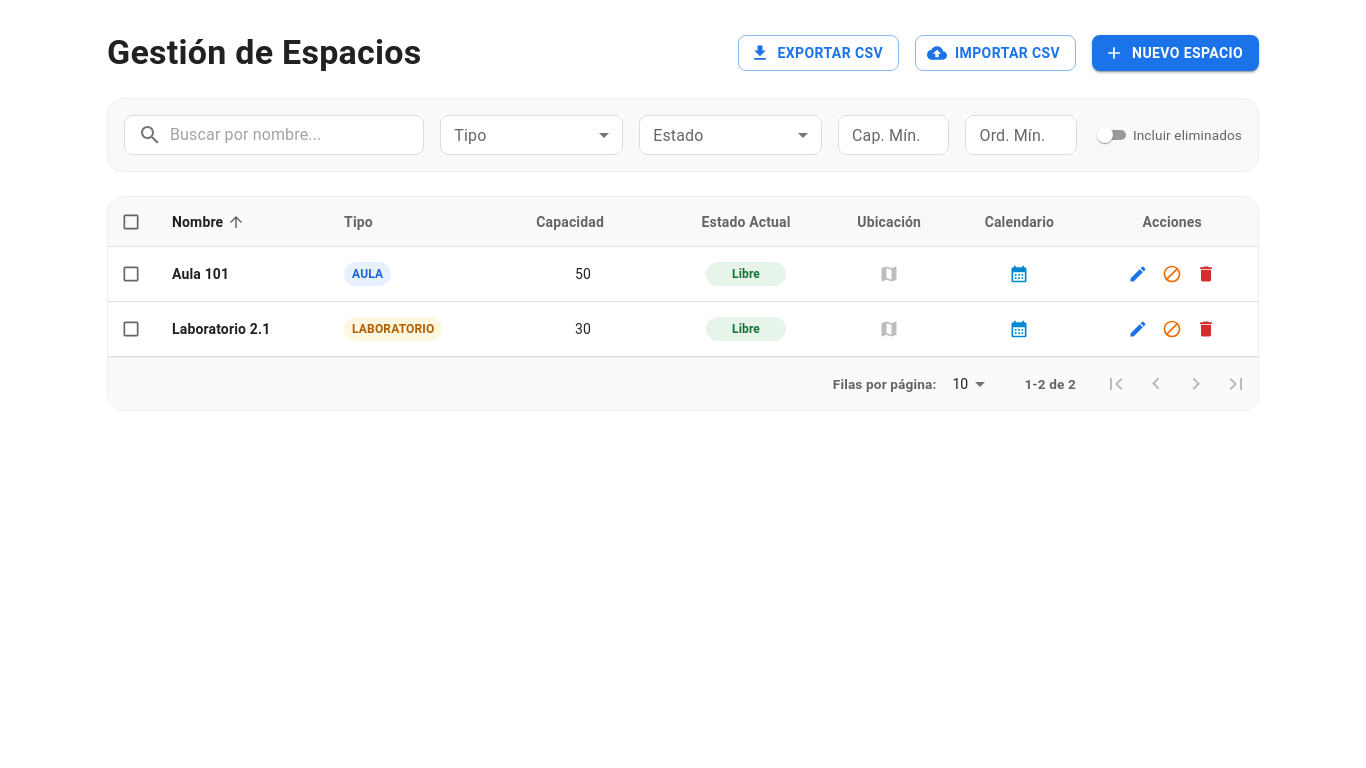
Test: SpaceList › debe renderizar el título y permitir abrir diálogos
The image size is (1366, 768).
Expected: the heading "Gestión de Espacios" is shown, [107,32,422,74]
Expected: the button "Nuevo Espacio" is shown, [1092,35,1259,71]
// Buscar botones de acción por aria-label
Click the button named "editar espacio" in the row of "Aula 101".
click(1138, 274)  # box [1123,259,1153,289]
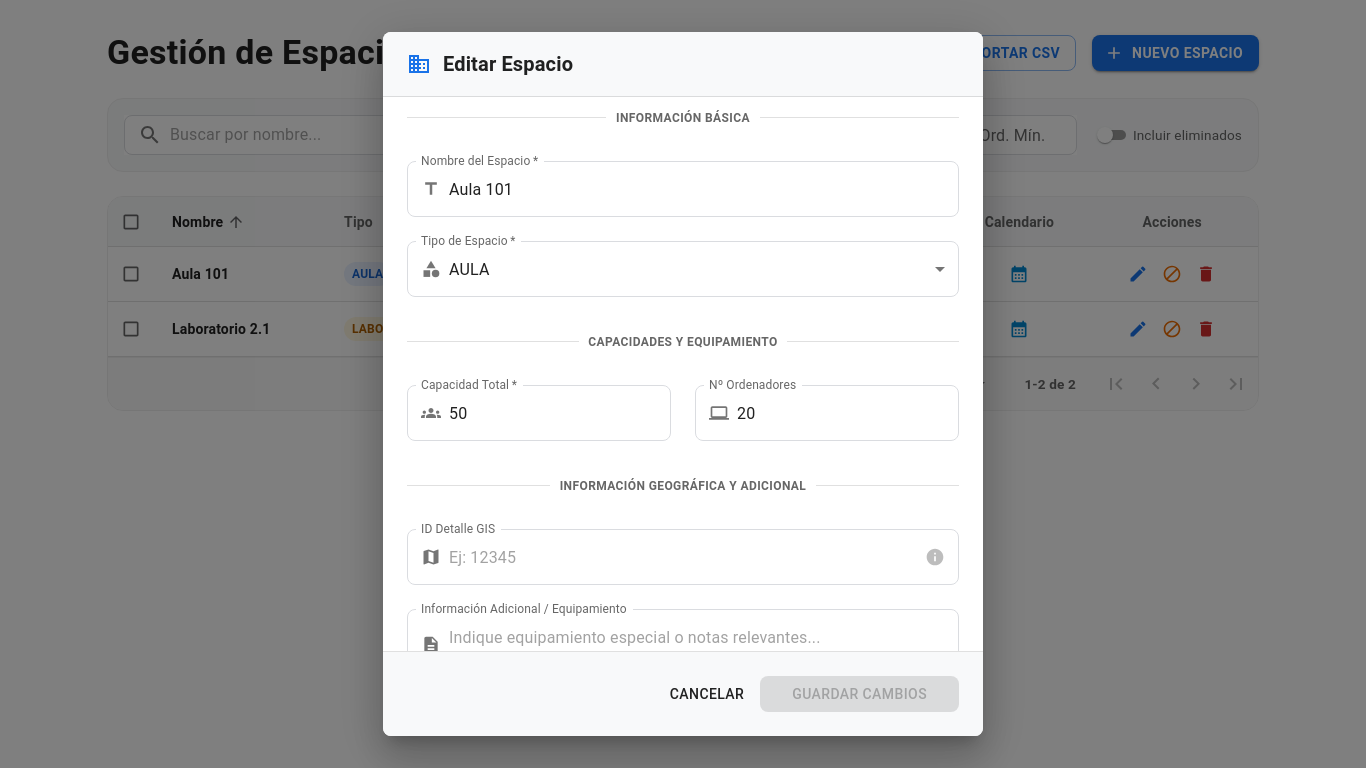
Now the heading "Editar Espacio" is shown, box [383,32,983,97]
